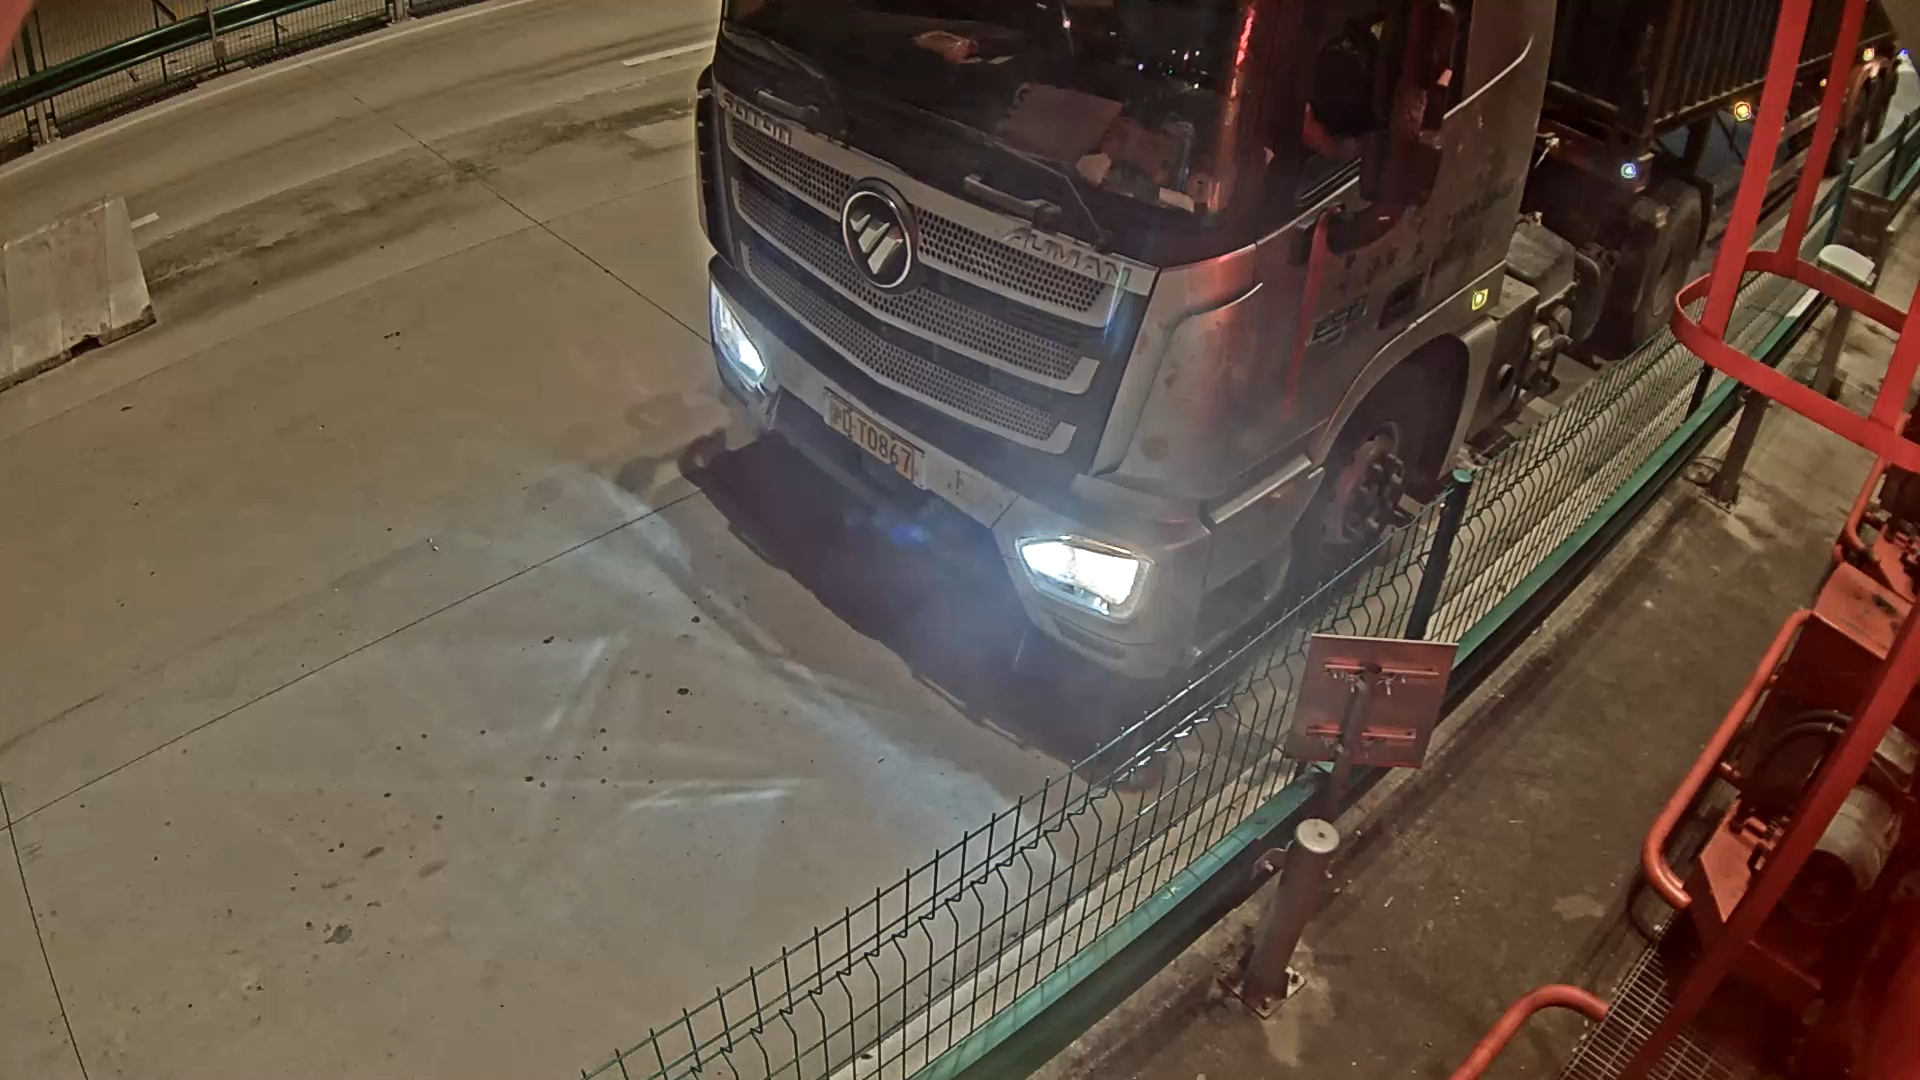head: (691, 14, 1374, 719)
plate: (820, 392, 930, 493)
